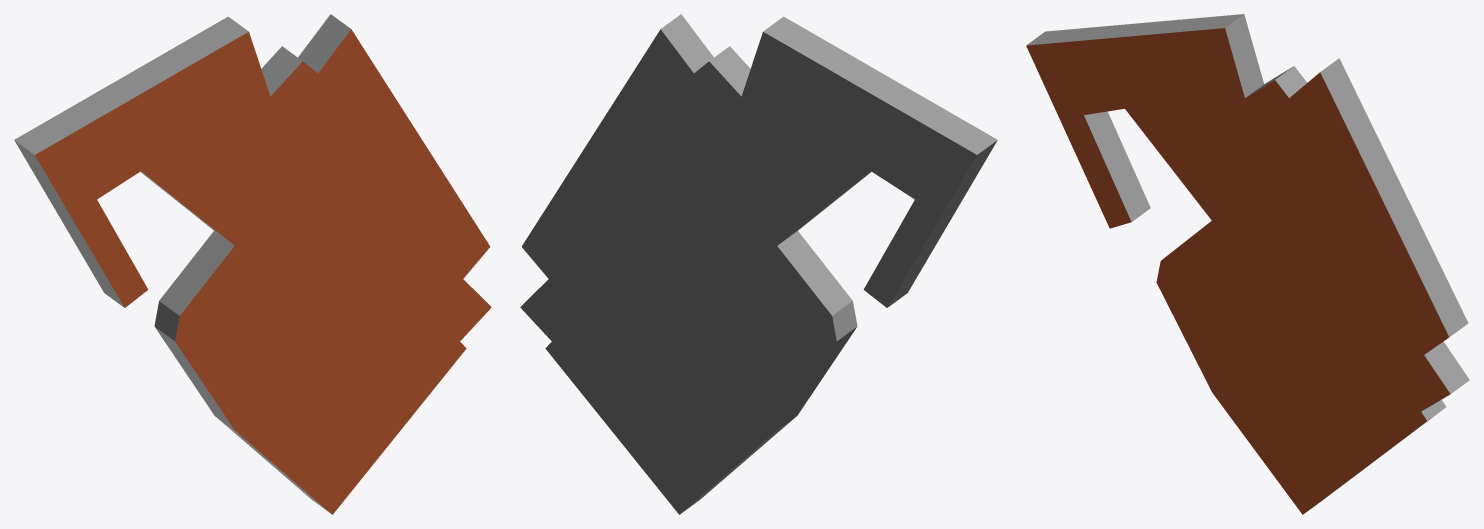
File: construction_5651_assumed_A_Casa_h6m.obj
The picture shows the model from 3 angles, left to right: view 1: azimuth 30°, elevation 25°; view 2: azimuth 150°, elevation 25°; view 3: azimuth 330°, elevation 25°; orthographic projection. The views are drawn at different scales.
Parts seen in each view (by area): view 1: construction_5651_assumed_A_Casa; view 2: construction_5651_assumed_A_Casa; view 3: construction_5651_assumed_A_Casa.
Part boxes in pixels (x1,y1,x2,y2): construction_5651_assumed_A_Casa: (14,14,491,514); construction_5651_assumed_A_Casa: (520,14,997,514); construction_5651_assumed_A_Casa: (1026,14,1469,514).
Size of the model in its own units: 76.55 by 80.62 by 6.
